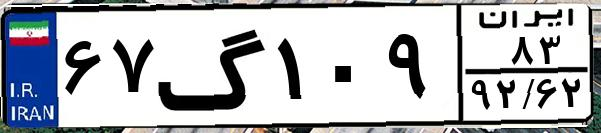0: (330, 28, 385, 110)
1: (270, 28, 330, 110)
2: (560, 70, 590, 125), (495, 70, 520, 125)
3: (537, 27, 568, 80)
6: (57, 26, 110, 100), (535, 70, 560, 125)
7: (110, 28, 156, 98)
8: (508, 27, 537, 80)
9: (385, 28, 445, 110), (470, 70, 495, 125)
گ: (156, 12, 270, 120)
